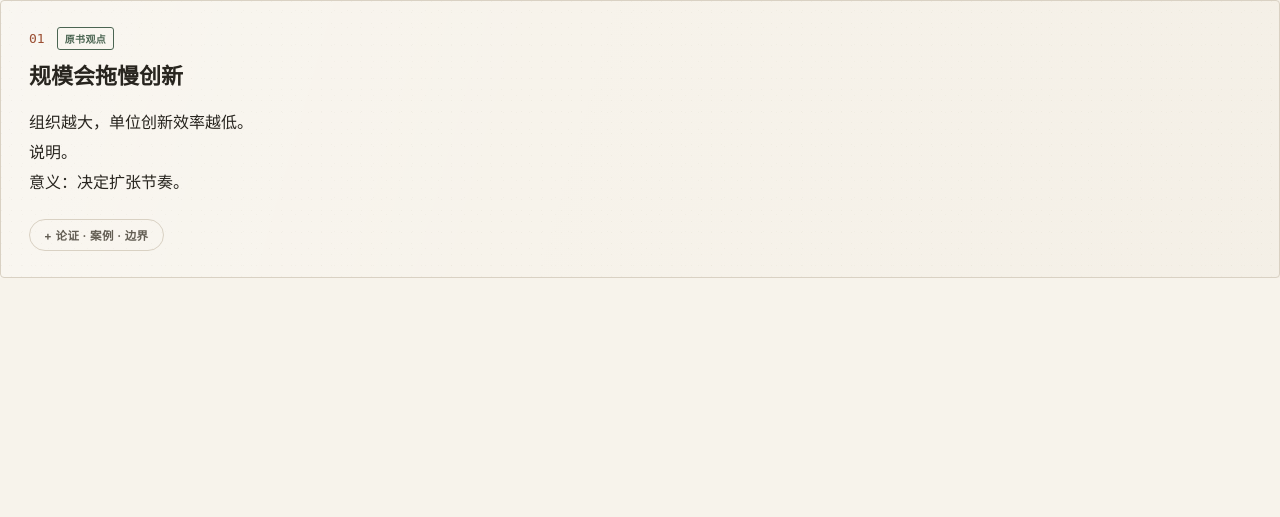
CoreIdeaSection › labels AI-added boundaries separately from the author's own
This screenshot has width=1280, height=517.
Step 1. Click the heading "论证 · 案例 · 边界" → point(96, 235), box x1=29 y1=219 x2=164 y2=251
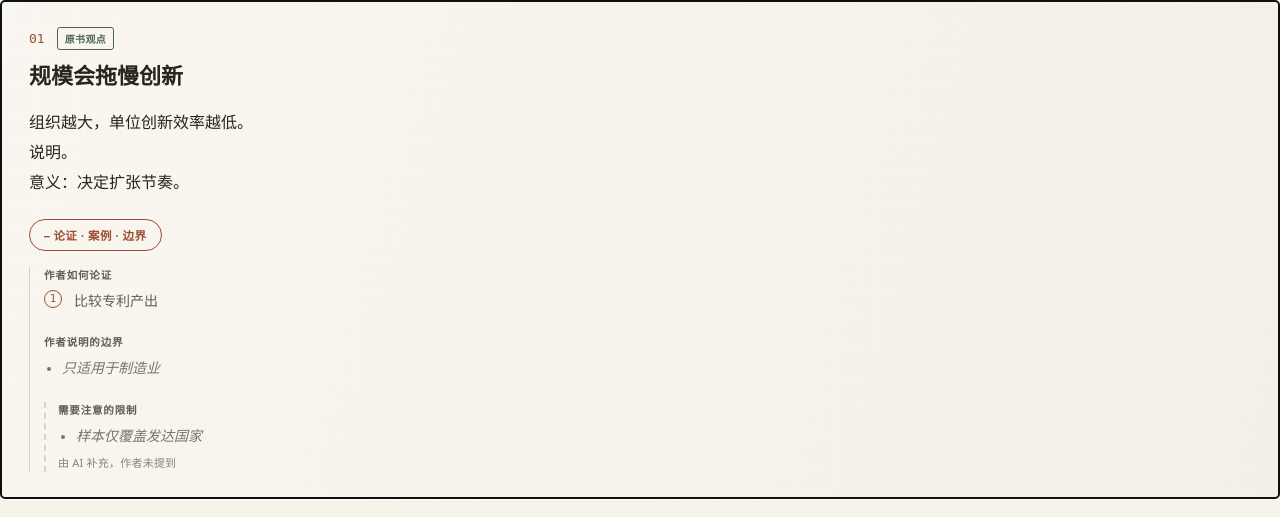
Check: the heading "作者说明的边界" is shown, box x1=44 y1=336 x2=123 y2=349
Check: the list item "只适用于制造业" is shown, box x1=62 y1=361 x2=160 y2=376
Check: the heading "需要注意的限制" is shown, box x1=58 y1=404 x2=137 y2=417
